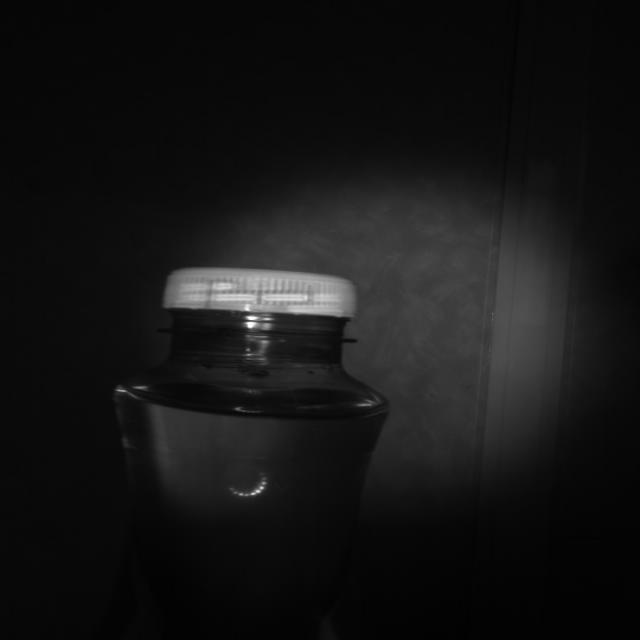Not Good: (163, 266, 350, 350)
